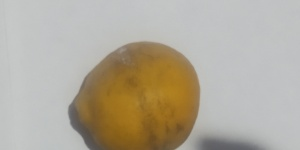BAD: (75, 41, 203, 149)
